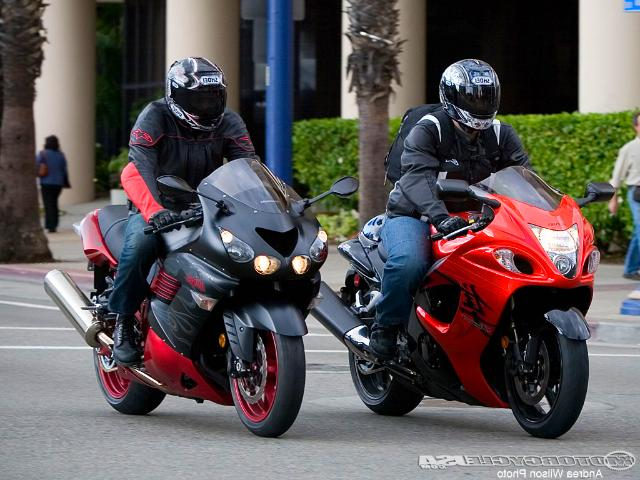helm: (437, 53, 506, 141), (163, 53, 229, 136)
motor: (47, 152, 363, 436), (341, 165, 611, 435)
